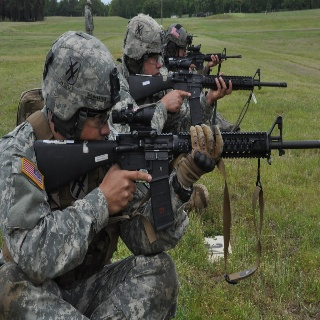rifle: (32, 115, 320, 232), (127, 69, 288, 124), (165, 43, 243, 77)
